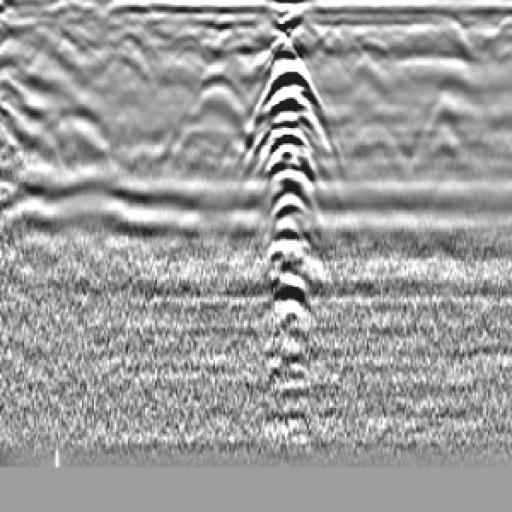metalic: (249, 22, 329, 359)
nonmetalic: (156, 67, 267, 174)
